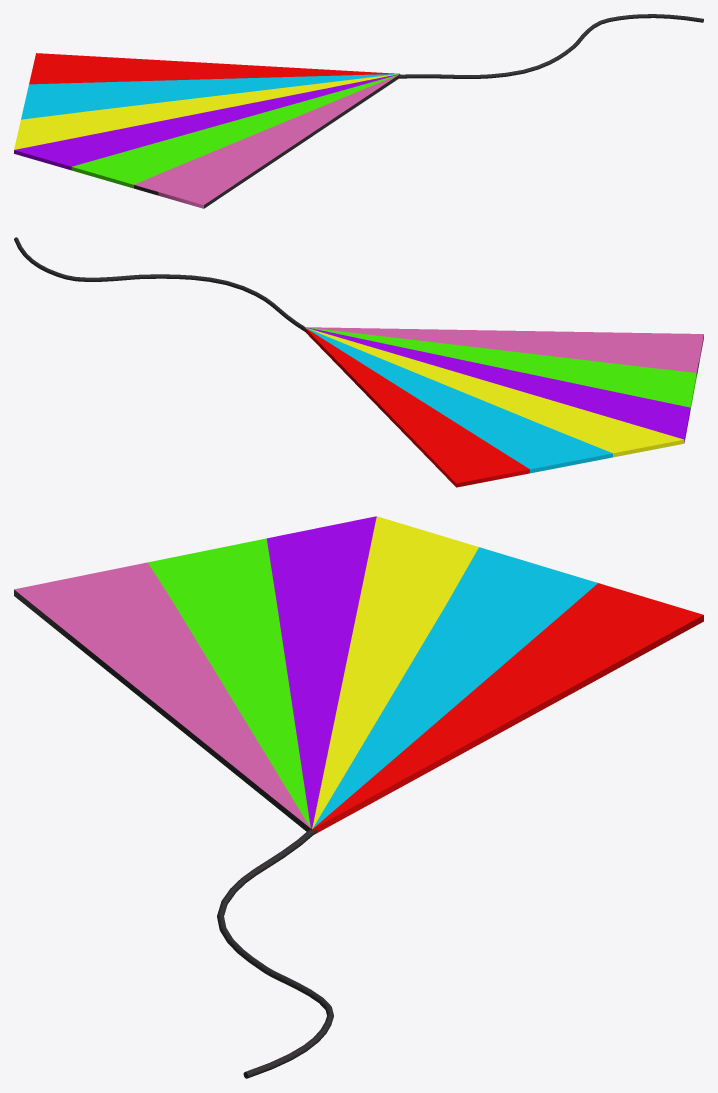
Rendered from kite.glb.
3 renders of one model, top to bottom at view 1: azimuth 30°, elevation 25°; view 2: azimuth 150°, elevation 25°; view 3: azimuth 270°, elevation 25°, orthographic. The views are drawn at different scales.
Parts seen in each view (by area): view 1: Box002, Line003; view 2: Box002, Line003; view 3: Box002, Line003.
Boxes of the visible parts, x1=… form: Box002: x1=14, y1=53, x2=400, y2=208; Line003: x1=398, y1=14, x2=703, y2=78; Box002: x1=304, y1=327, x2=703, y2=487; Line003: x1=14, y1=237, x2=306, y2=331; Box002: x1=14, y1=516, x2=703, y2=834; Line003: x1=217, y1=829, x2=333, y2=1078.
Bounding box in the file's own units: 1051568 × 6464 × 551384.
Materials: 2 (2 with a texture image).
